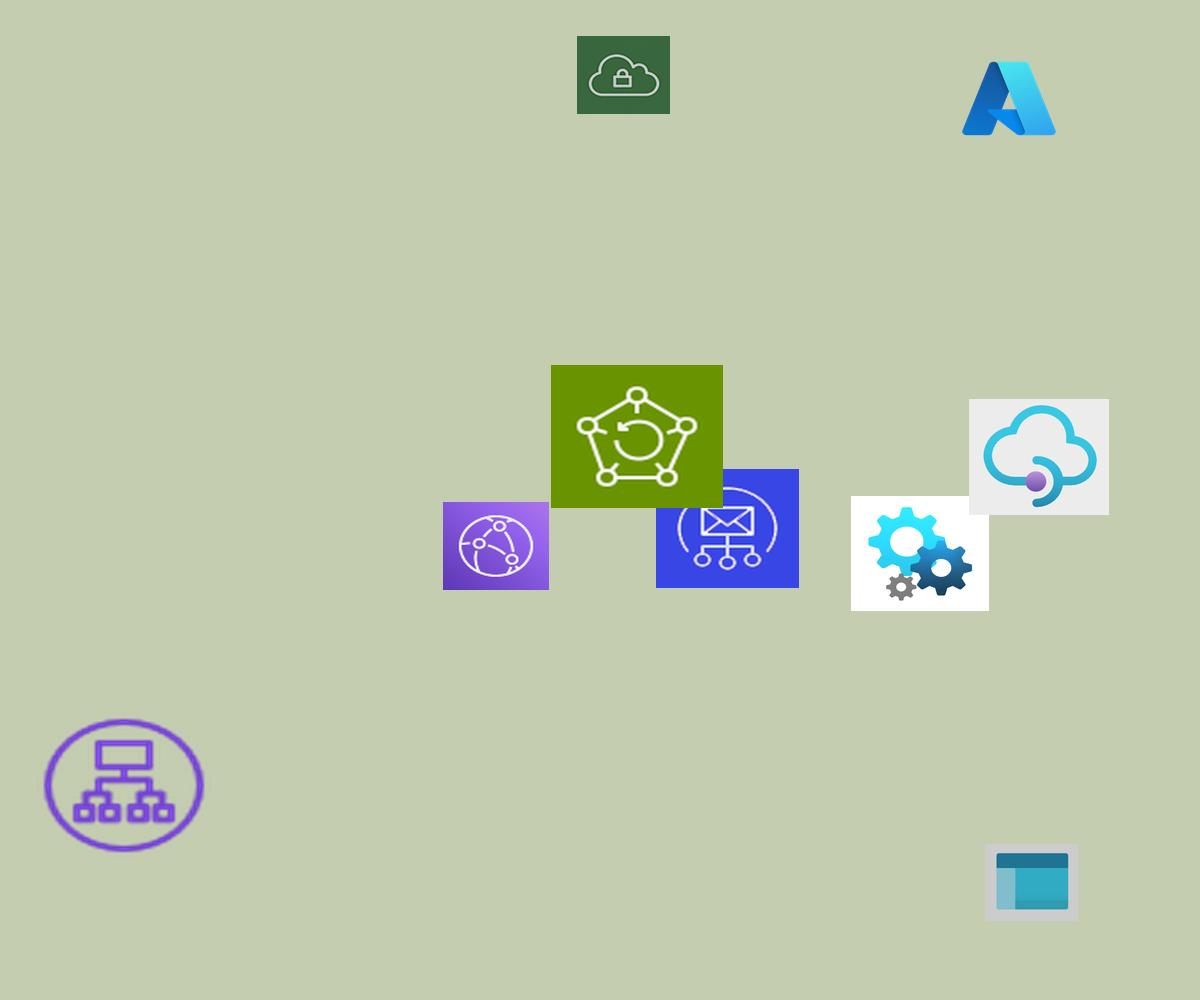AWS-Backup: (551, 365, 723, 508)
AWS-CloudFront: (443, 502, 549, 590)
AWS-Private_vpc: (577, 36, 670, 114)
AWS-Res_Elastic-Load-Balancing_Application-Load-Balancer: (37, 713, 211, 858)
AWS-Simple-Email-Service: (656, 469, 799, 588)
Azure_api: (851, 496, 989, 611)
Azure_api_gateway: (969, 399, 1109, 515)
Azure_management-portal: (985, 844, 1078, 921)
Azure_services: (958, 56, 1060, 141)
